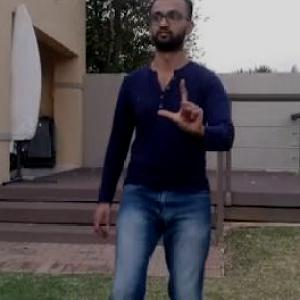land_hand: (154, 72, 212, 141)
